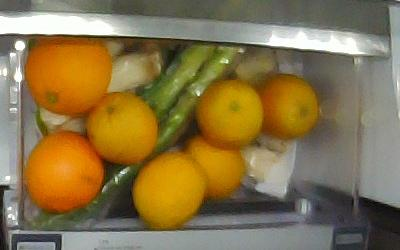orange: (24, 36, 112, 113), (26, 131, 104, 213), (132, 153, 207, 227), (88, 93, 158, 164), (195, 81, 264, 147), (257, 73, 318, 141), (183, 131, 243, 199)
